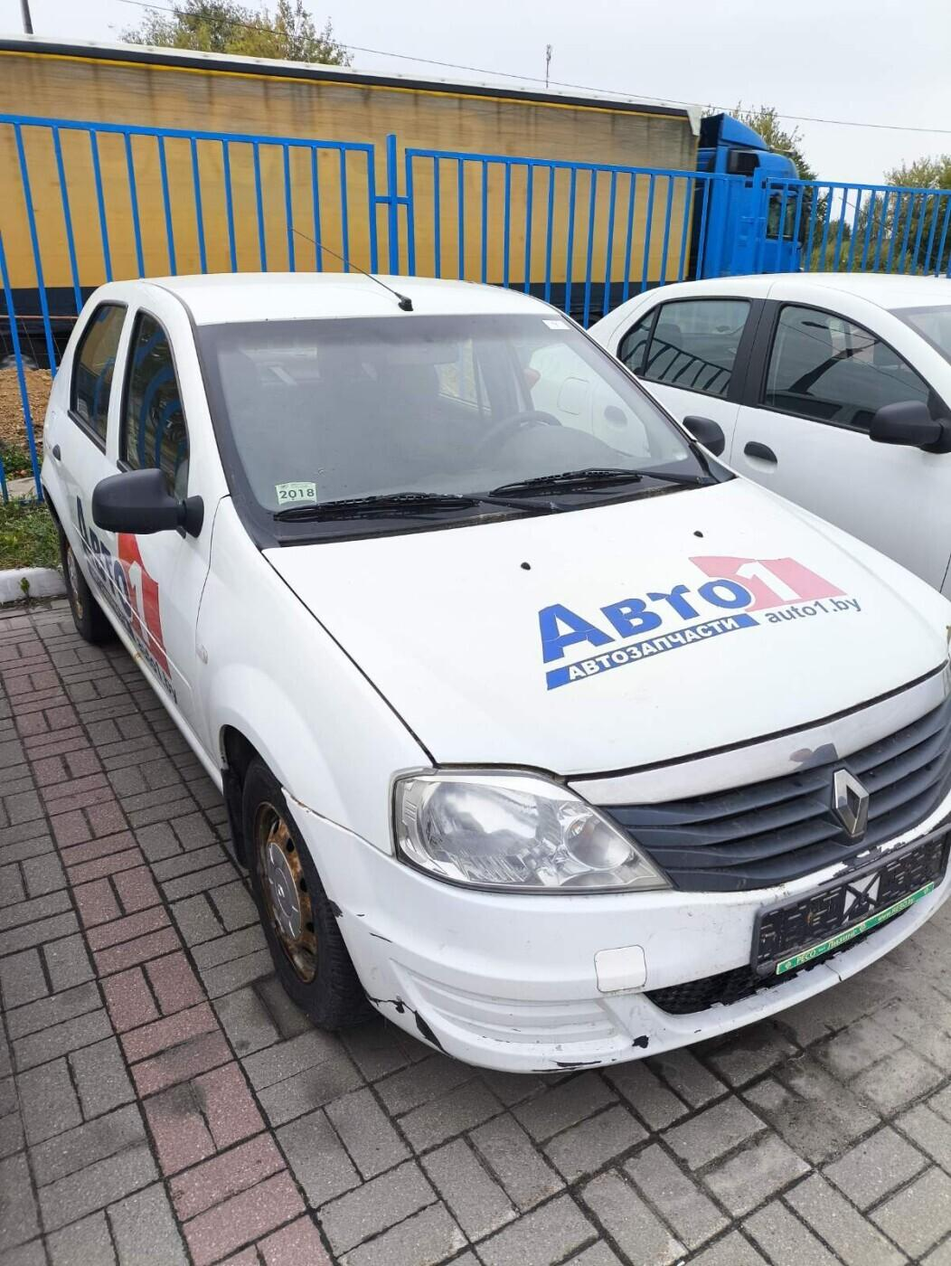Logan_2008-2015: (33, 264, 951, 1083)
